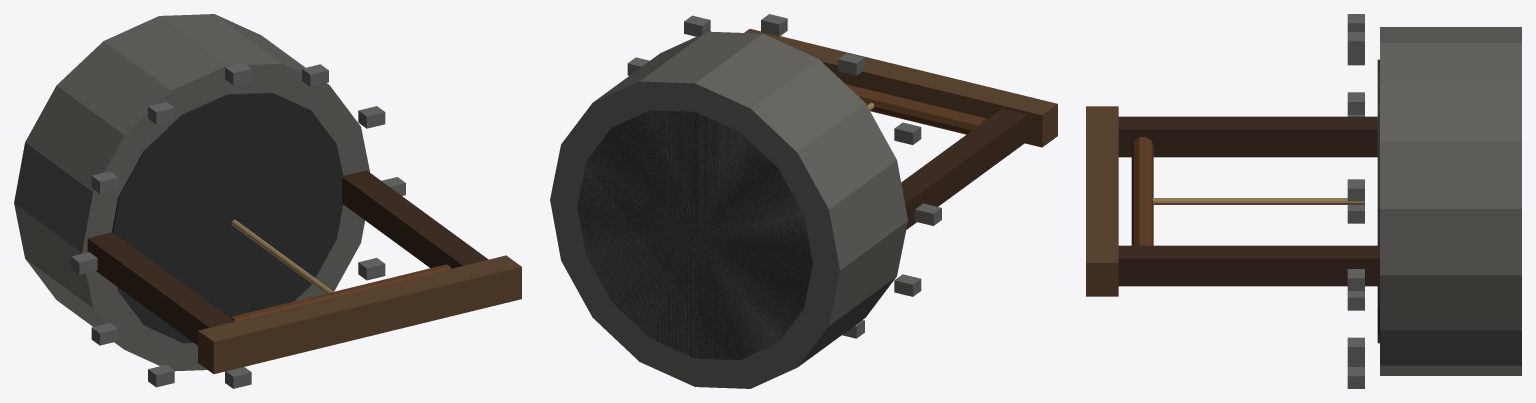
File: SM_StoneWell.obj
3 views of the same model, side by side, from view 1: azimuth 30°, elevation 25°; view 2: azimuth 150°, elevation 25°; view 3: azimuth 270°, elevation 25° (orthographic). The views are drawn at different scales.
Size of the model in its own units: 1.8 by 1.66 by 2.
